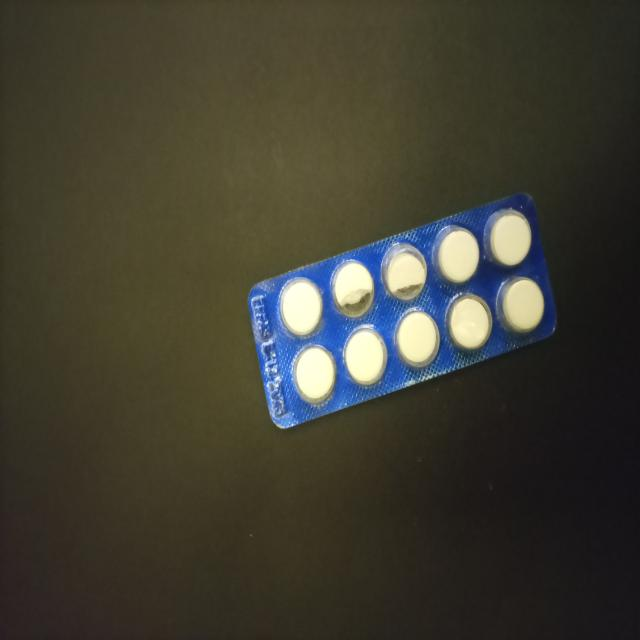defect: (379, 240, 428, 304), (330, 258, 375, 322)
